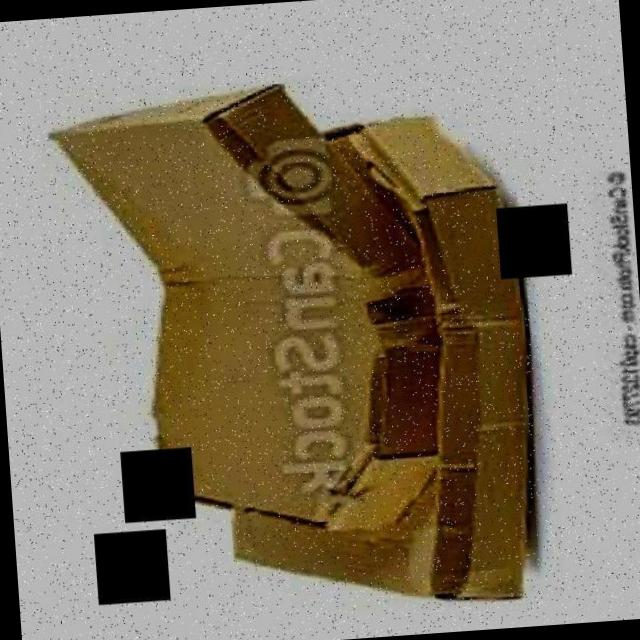box: (34, 75, 440, 559)
